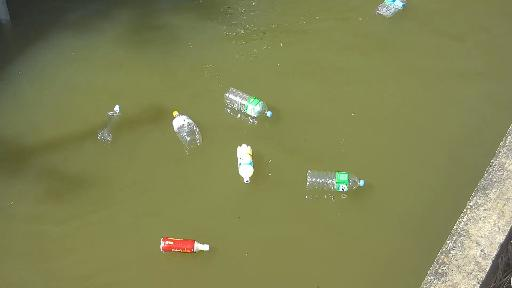plastic: (216, 78, 273, 121), (85, 103, 134, 150), (154, 236, 222, 262), (165, 104, 206, 146), (293, 173, 363, 195), (227, 148, 266, 182), (374, 0, 412, 28)
